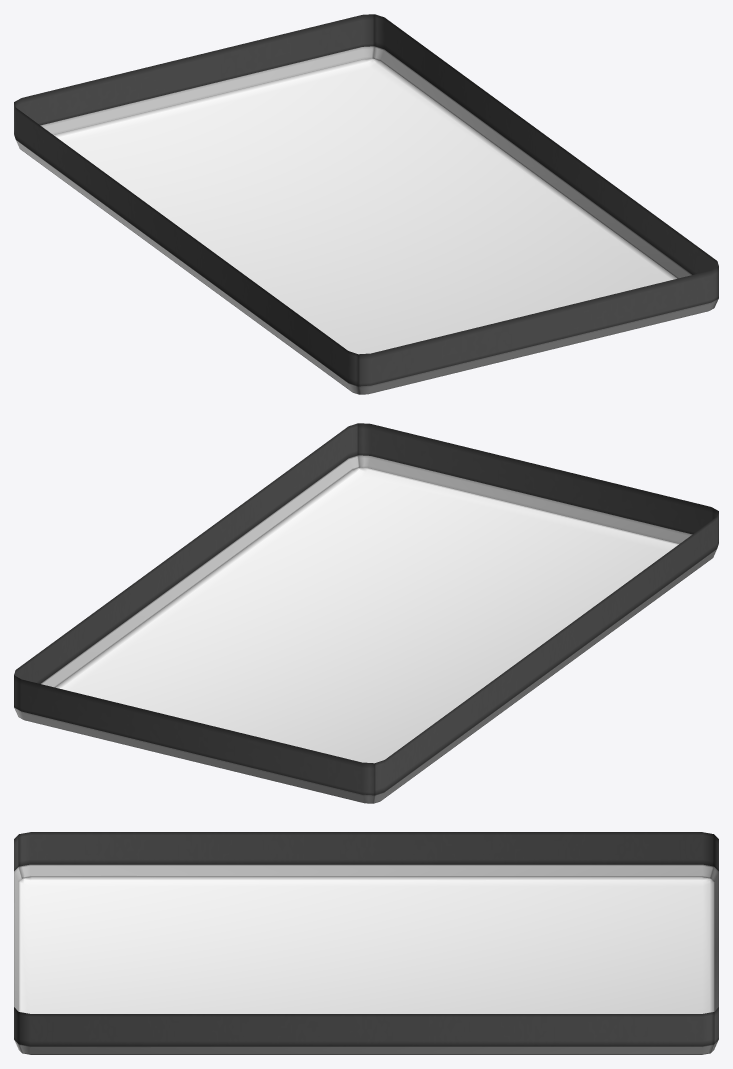
The model's file is Roof_Light_01.FBX.
3 renders of one model, top to bottom at view 1: azimuth 30°, elevation 25°; view 2: azimuth 150°, elevation 25°; view 3: azimuth 270°, elevation 25°, orthographic.
Visible parts, largest first — view 1: Roof_Light_01; view 2: Roof_Light_01; view 3: Roof_Light_01.
Boxes of the visible parts, x1,y1,x2,y2 form: Roof_Light_01: [14, 14, 718, 394]; Roof_Light_01: [14, 423, 718, 803]; Roof_Light_01: [14, 832, 718, 1054].
Bounding box in the file's own units: 3.13 × 0.38 × 5.13.
